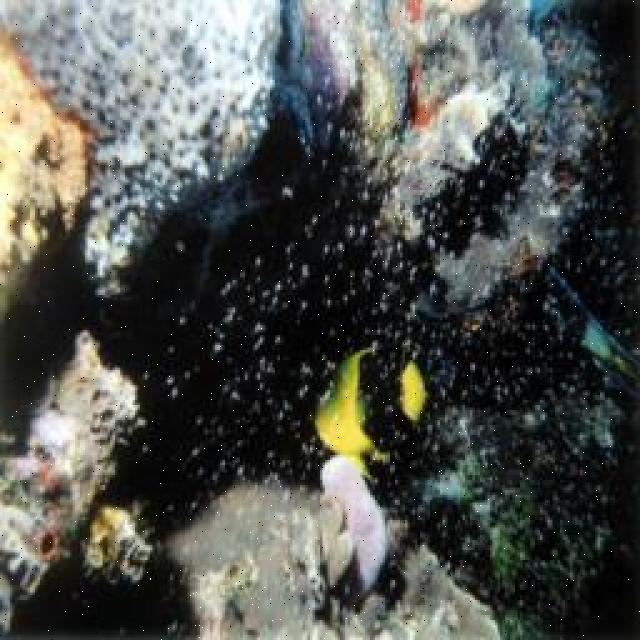fish: (313, 343, 430, 461)
sea-floor: (0, 0, 609, 326), (165, 452, 502, 638)
